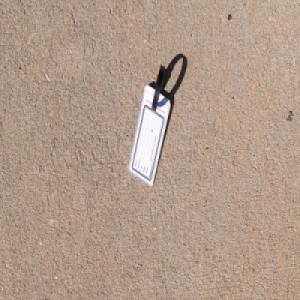LuggageTag: (127, 62, 171, 188)
